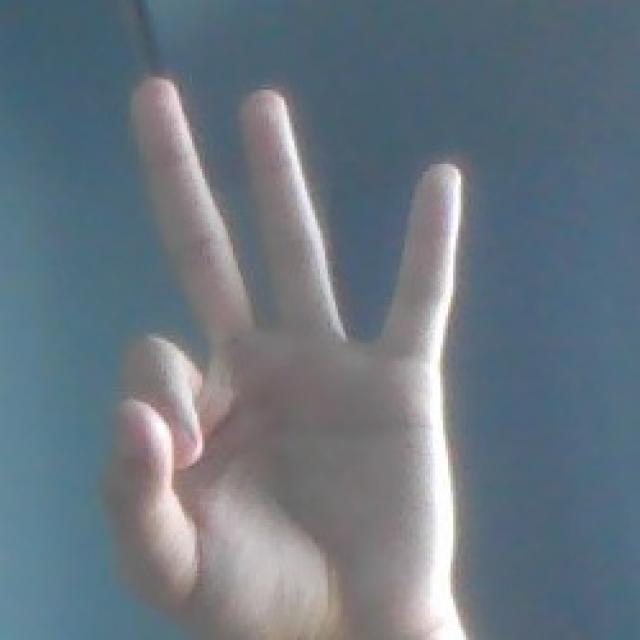Numeric-9: (104, 66, 468, 633)
